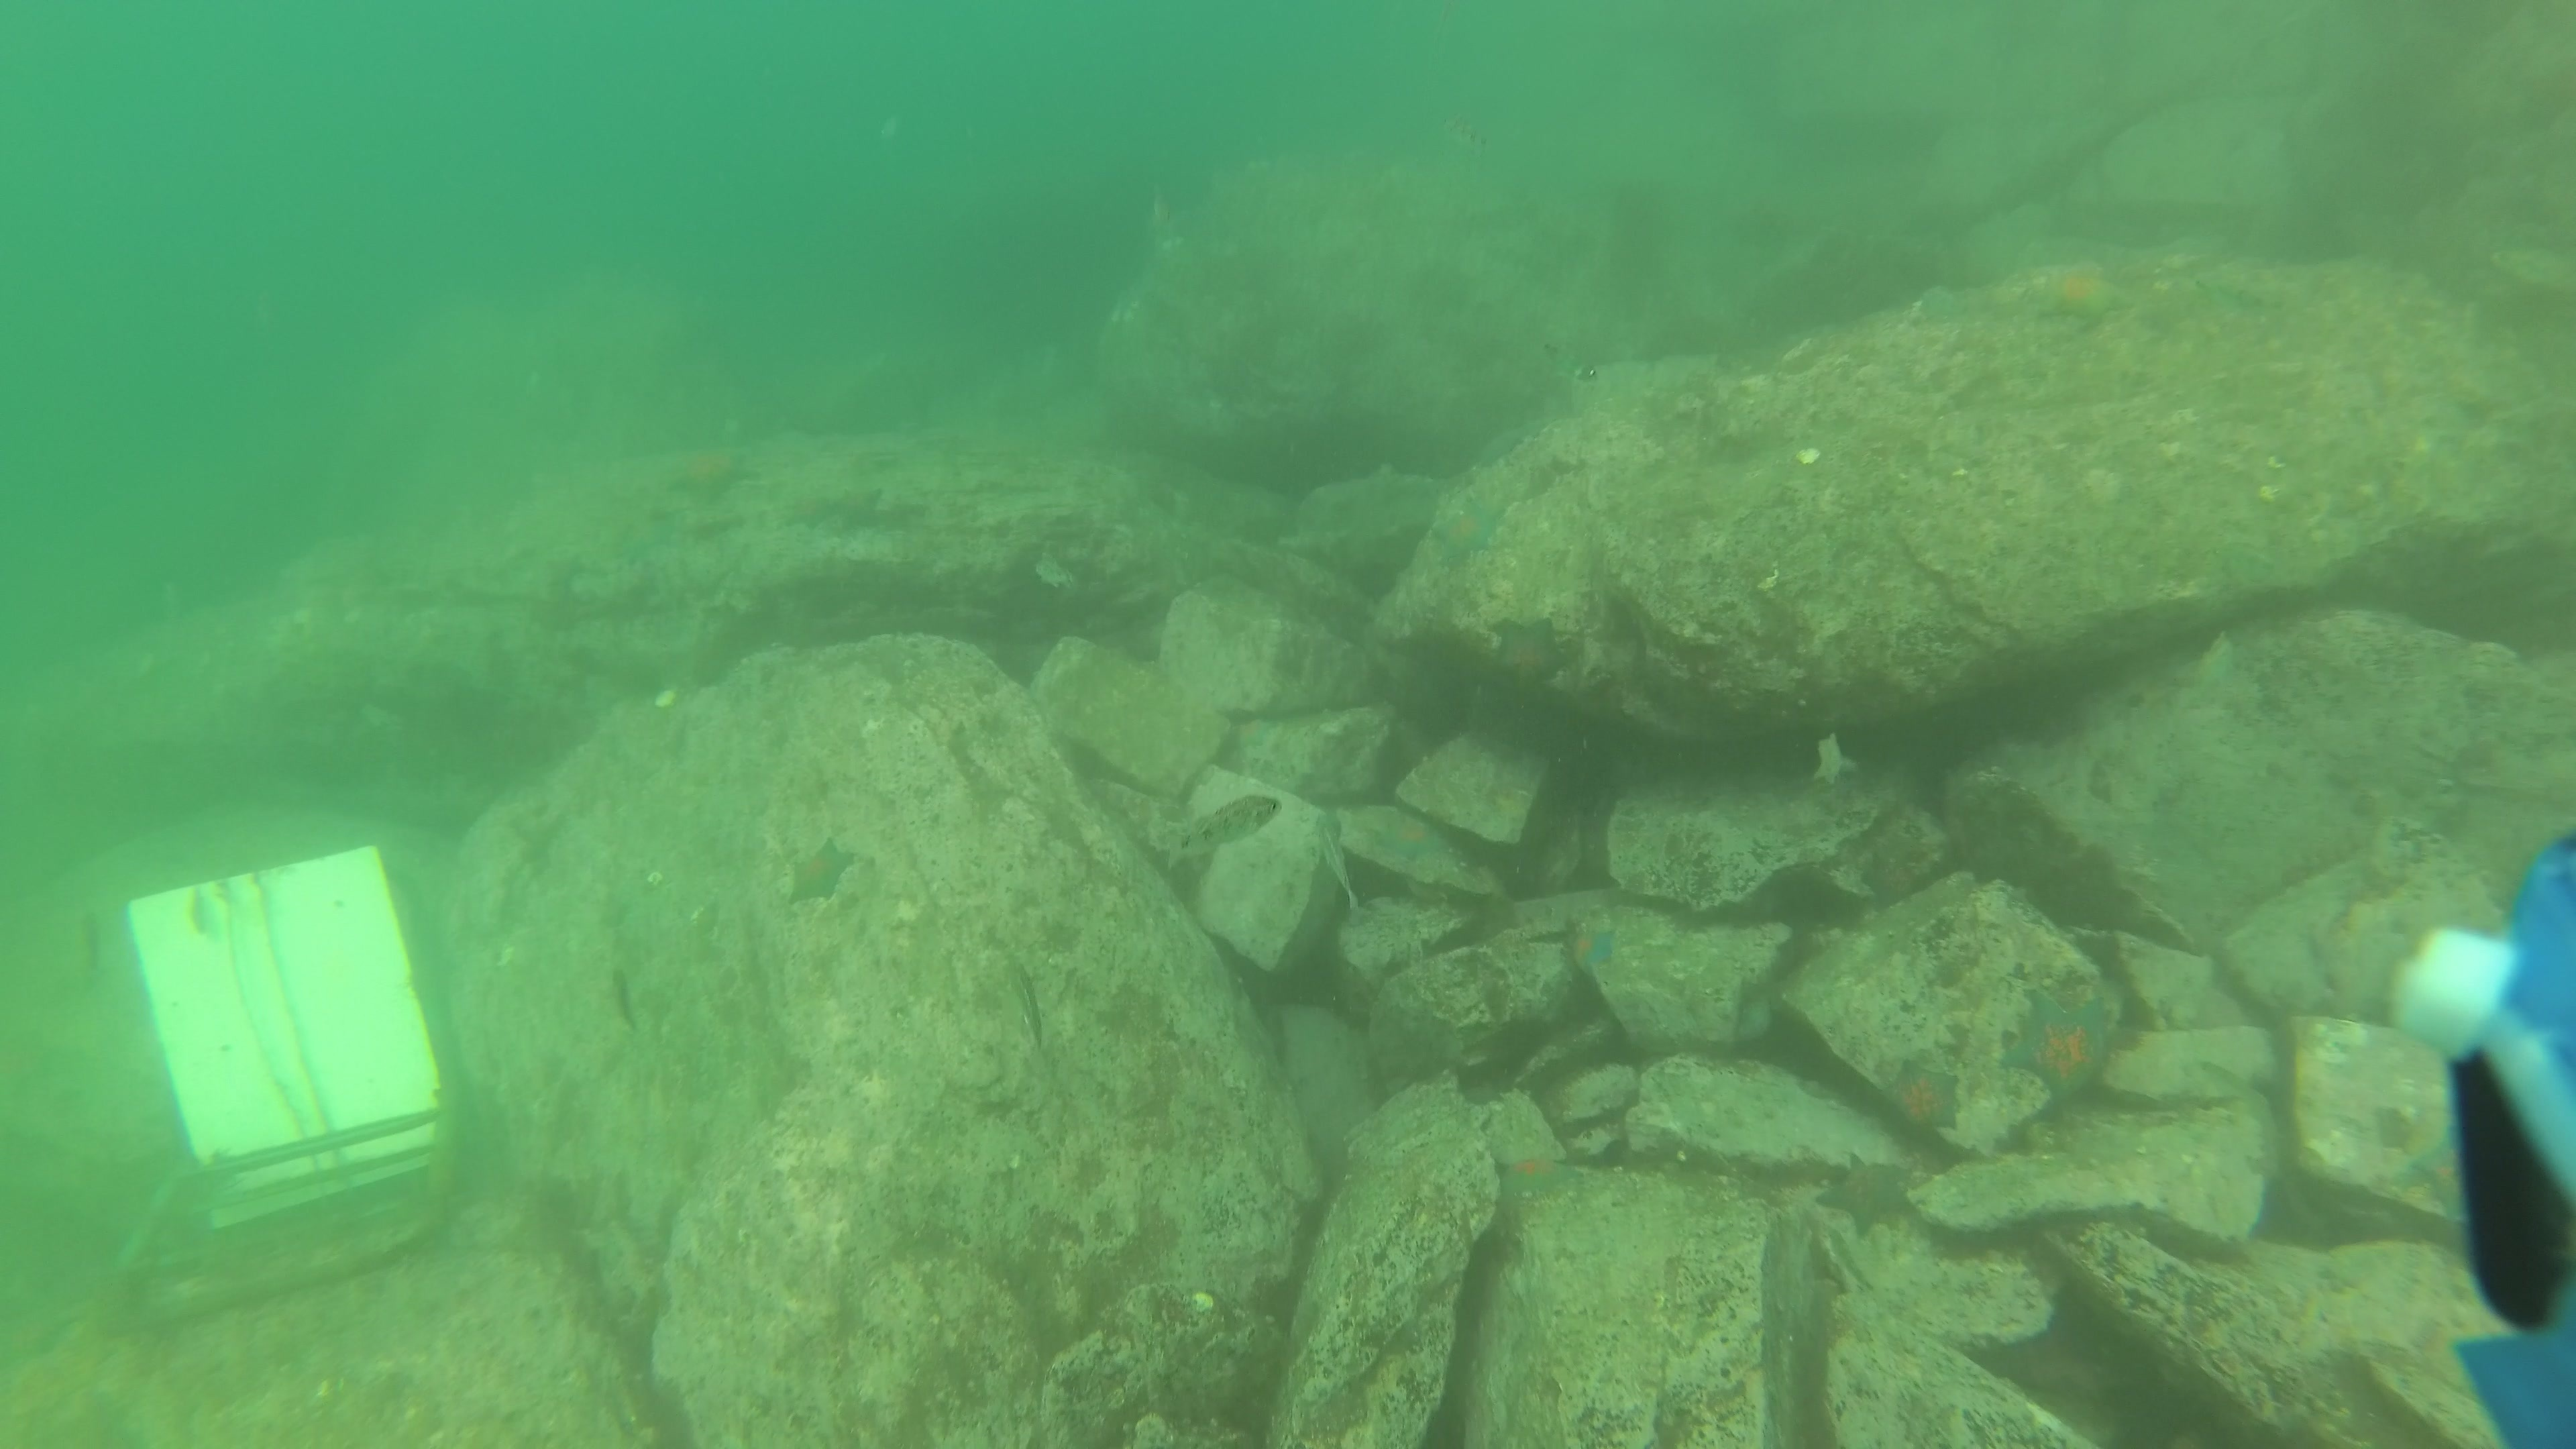starfish: (1996, 985, 2127, 1106), (1813, 1148, 1923, 1244), (1872, 1053, 1971, 1138), (1479, 614, 1576, 694), (2031, 267, 2141, 331), (667, 437, 766, 506), (786, 832, 860, 911), (1424, 497, 1507, 566), (1359, 809, 1453, 865), (1493, 1150, 1591, 1203), (1560, 922, 1622, 980), (782, 488, 839, 536), (835, 483, 893, 527)
